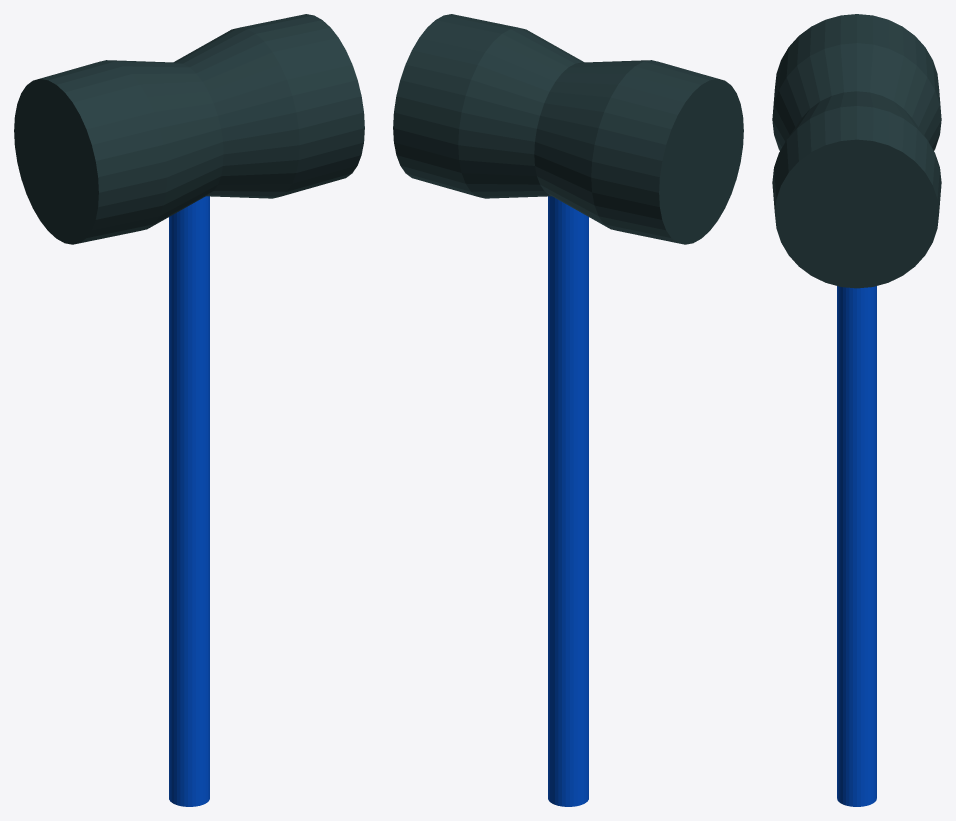
Rendered from Hammer.glb.
The picture shows the model from 3 angles, left to right: view 1: azimuth 30°, elevation 25°; view 2: azimuth 150°, elevation 25°; view 3: azimuth 270°, elevation 25°; orthographic projection. The views are drawn at different scales.
Visible parts, largest first — view 1: Hammer; view 2: Hammer; view 3: Hammer.
Part boxes in pixels (<box>): Hammer: <box>14,14,364,806</box>; Hammer: <box>393,14,743,806</box>; Hammer: <box>772,14,941,806</box>.
Bounding box in the file's own units: 6.07 × 16.33 × 3.46.
